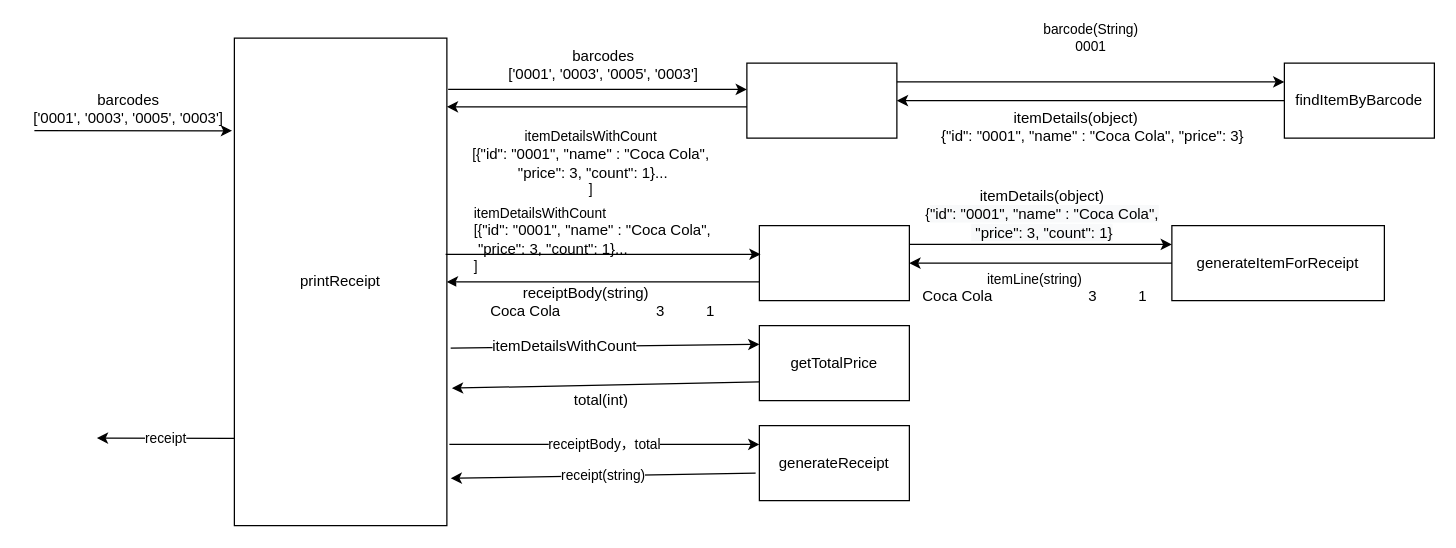
The diagram is 1456 pixels wide and 548 high, and some of its shapes have lost their labels. Each missing label, with the box of its shape:
generateReceiptBody: (758, 224, 909, 301)
tagItems: (746, 62, 897, 138)
